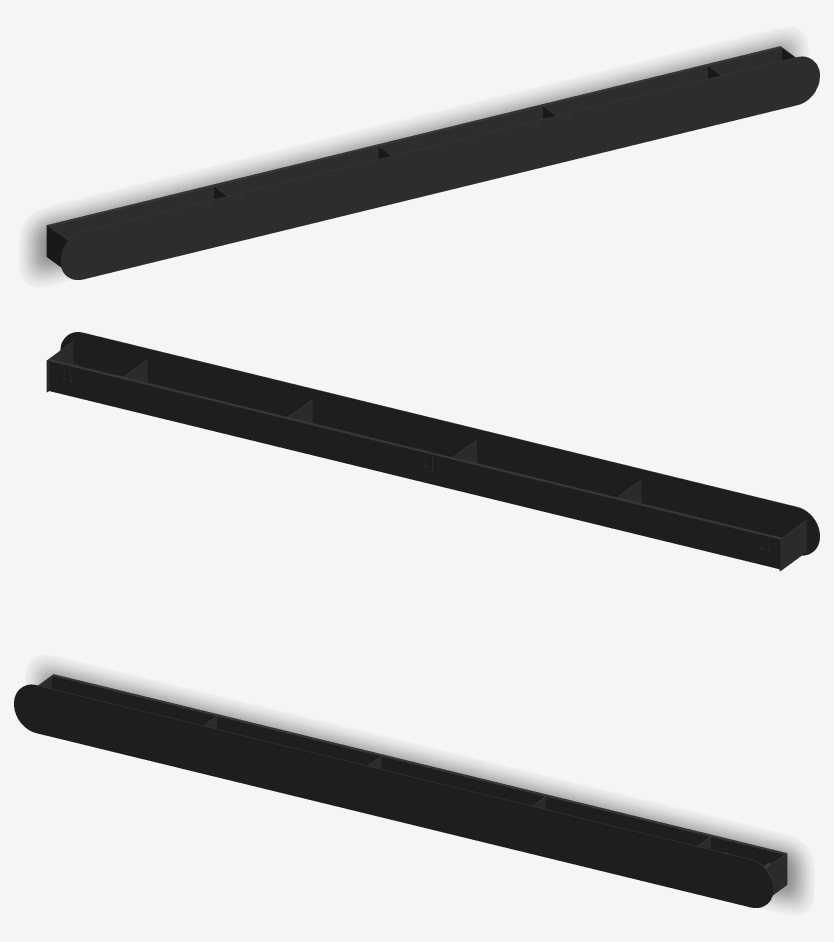
Rendered from round-patron.110da31afb.ar.glb.
3 renders of one model, top to bottom at view 1: azimuth 30°, elevation 25°; view 2: azimuth 150°, elevation 25°; view 3: azimuth 330°, elevation 25°, orthographic.
Parts seen in each view (by area): view 1: NAUO1, object 2; view 2: NAUO1; view 3: NAUO1, object 2.
Boxes of the visible parts, x1=… form: NAUO1: x1=46, y1=46, x2=819, y2=279; object 2: x1=29, y1=38, x2=798, y2=275; NAUO1: x1=46, y1=332, x2=819, y2=571; NAUO1: x1=14, y1=674, x2=787, y2=907; object 2: x1=35, y1=666, x2=804, y2=903.
Bounding box in the file's own units: 1.58 × 0.17 × 0.092.
Materials: 2 (1 with a texture image).
